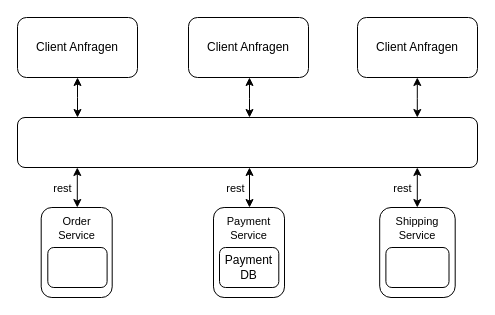
Some shapes in this 495 by 315 pixel diagram are drawn without their labels. Each missing label, with the centre of its shape:
API-Gateway: point 247,142
Order DB: point 77,267
Shipping DB: point 417,267
